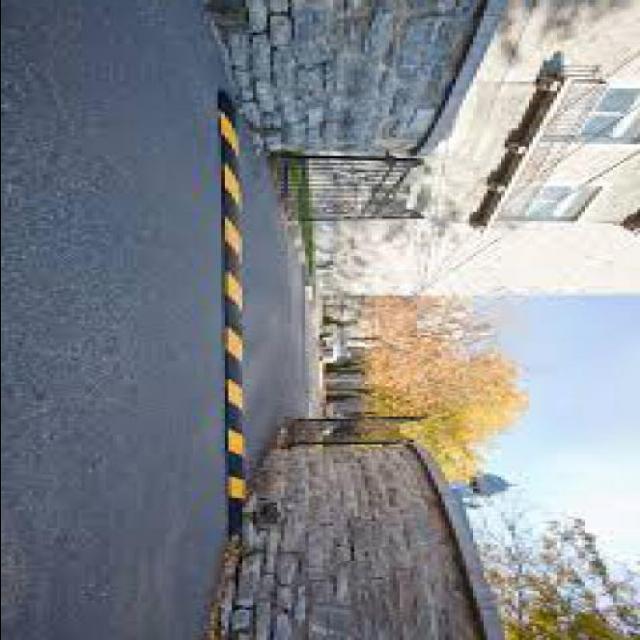Speed_Breaker: (202, 85, 256, 555), (218, 91, 247, 537)
